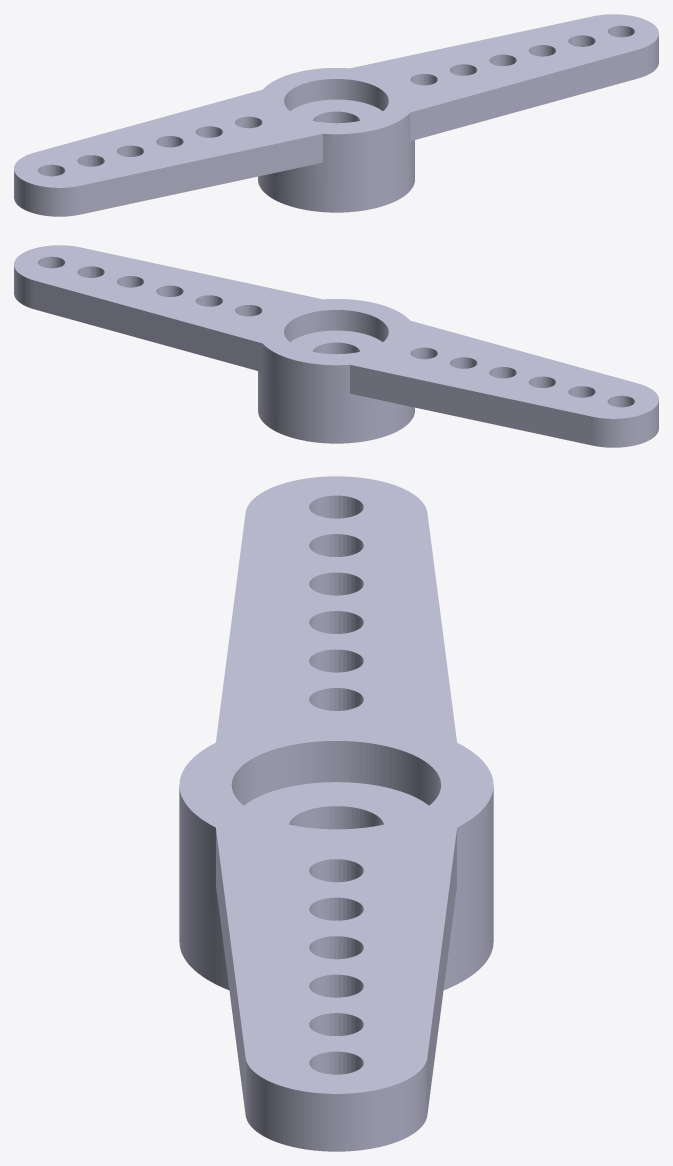
Rendered from Camera_servo_mount001.dae.
3 renders of one model, top to bottom at view 1: azimuth 30°, elevation 25°; view 2: azimuth 150°, elevation 25°; view 3: azimuth 270°, elevation 25°, orthographic. The views are drawn at different scales.
Visible parts, largest first — view 1: node0; view 2: node0; view 3: node0.
Boxes of the visible parts, x1=… form: node0: x1=14, y1=14, x2=658, y2=216; node0: x1=14, y1=245, x2=658, y2=447; node0: x1=179, y1=476, x2=493, y2=1151.
Size of the model in its own units: 0.0321 by 0.0069 by 0.0038.
